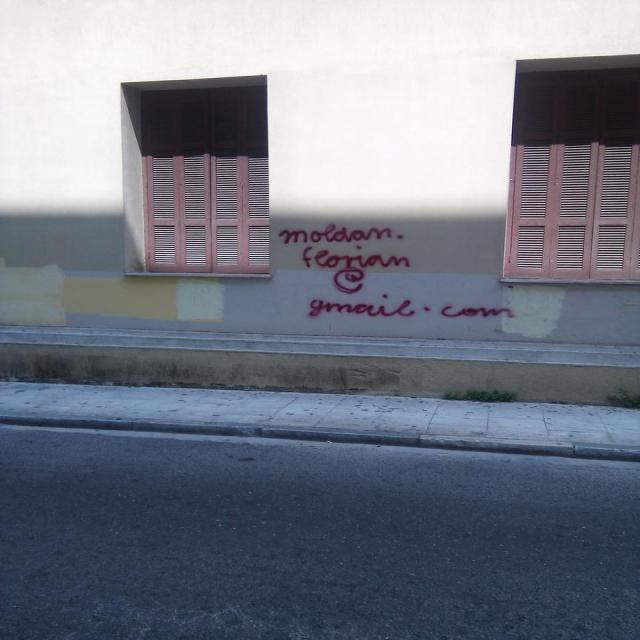nonspitting: (281, 218, 518, 326)
